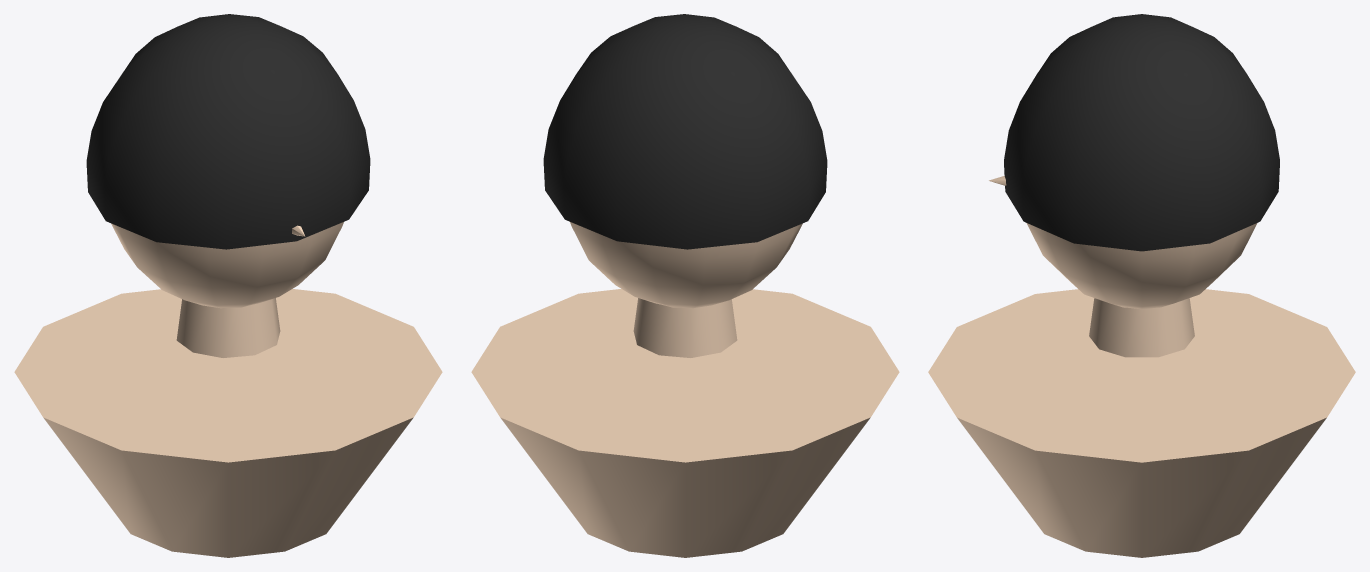
The model's file is portrait11m_002.glb.
3 views of the same model, side by side, from view 1: azimuth 30°, elevation 25°; view 2: azimuth 150°, elevation 25°; view 3: azimuth 270°, elevation 25° (orthographic).
Size of the model in its own units: 1.7 by 2.12 by 1.7.
